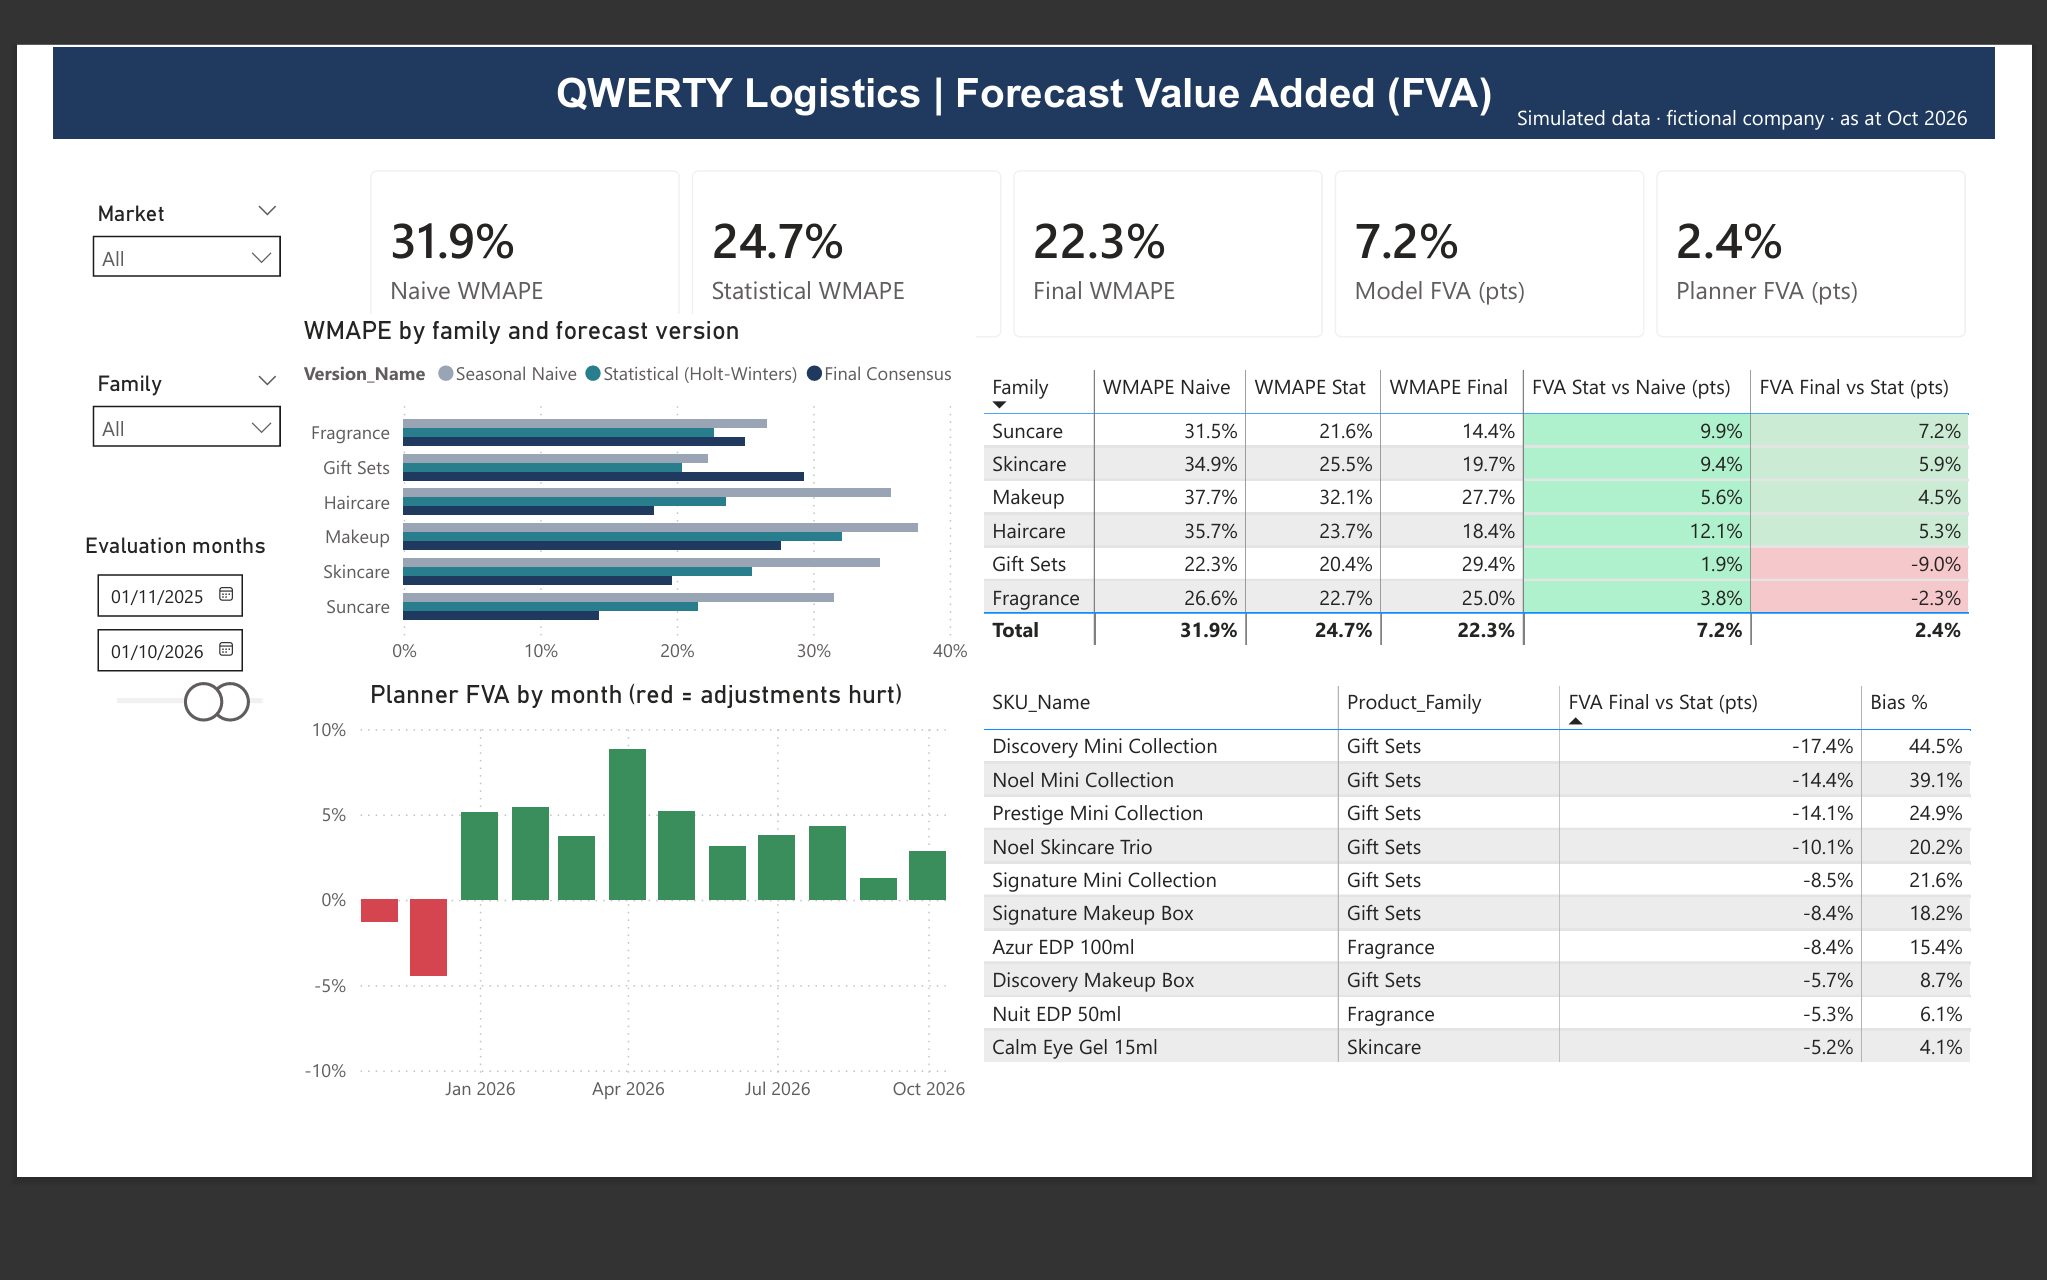

The dashboard page shown, as its layout file describes it:
{"tool":"powerbi","page":{"name":"Forecast Value Added (FVA)","canvas":[1280,720],"ordinal":2},"visuals":[{"type":"slicer","fields":{"Values":["dim_market.Market_Name"]},"box":[16,96,144,80],"z":0},{"type":"slicer","fields":{"Values":["dim_product.Product_Family"]},"box":[16,208,144,80],"z":1000},{"type":"slicer","title":"Evaluation months","fields":{"Values":["dim_date.Month_Start"]},"box":[16,320,144,160],"z":2000},{"type":"shape","box":[0,0,1280,60],"z":3000},{"type":"textbox","box":[0,10,1280,60],"z":4000},{"type":"textbox","box":[960,32,320,32],"z":5000},{"type":"cardVisual","fields":{"Data":["_Measures.WMAPE Naive","_Measures.WMAPE Stat","_Measures.WMAPE Final","_Measures.FVA Stat vs Naive (pts)","_Measures.FVA Final vs Stat (pts)"]},"box":[192,64,1088,144],"z":6000},{"type":"clusteredBarChart","title":"WMAPE by family and forecast version","fields":{"Category":["dim_product.Product_Family"],"Series":["dim_forecast_version.Version_Name"],"Y":["_Measures.WMAPE %"]},"box":[160,176,448,240],"z":7000},{"type":"tableEx","fields":{"Values":["dim_product.Product_Family","_Measures.WMAPE Naive","_Measures.WMAPE Stat","_Measures.WMAPE Final","_Measures.FVA Stat vs Naive (pts)","_Measures.FVA Final vs Stat (pts)"]},"box":[608,208,672,192],"z":8000},{"type":"tableEx","fields":{"Values":["dim_product.SKU_Name","dim_product.Product_Family","_Measures.FVA Final vs Stat (pts)","_Measures.Bias %"]},"box":[608,416,672,272],"z":9000},{"type":"clusteredColumnChart","title":"Planner FVA by month (red = adjustments hurt)","fields":{"Category":["dim_date.Year_Month"],"Y":["_Measures.FVA Final vs Stat (pts)"]},"box":[160,416,448,288],"z":10000}]}

Visuals, with their boxes on the page's 1280x720 design canvas (x1, y1, x2, y2). These are canvas units, not pixel positions in the 2047x1280 screenshot, which may show the page scaled, cropped or inside an application window:
slicer - dim_market.Market_Name: box(16, 96, 160, 176)
slicer - dim_product.Product_Family: box(16, 208, 160, 288)
"Evaluation months" slicer: box(16, 320, 160, 480)
shape: box(0, 0, 1280, 60)
textbox: box(0, 10, 1280, 70)
textbox: box(960, 32, 1280, 64)
cardVisual - _Measures.WMAPE Naive x _Measures.WMAPE Stat: box(192, 64, 1280, 208)
"WMAPE by family and forecast version" clusteredBarChart: box(160, 176, 608, 416)
tableEx - dim_product.Product_Family x _Measures.WMAPE Naive: box(608, 208, 1280, 400)
tableEx - dim_product.SKU_Name x dim_product.Product_Family: box(608, 416, 1280, 688)
"Planner FVA by month (red = adjustments hurt)" clusteredColumnChart: box(160, 416, 608, 704)
